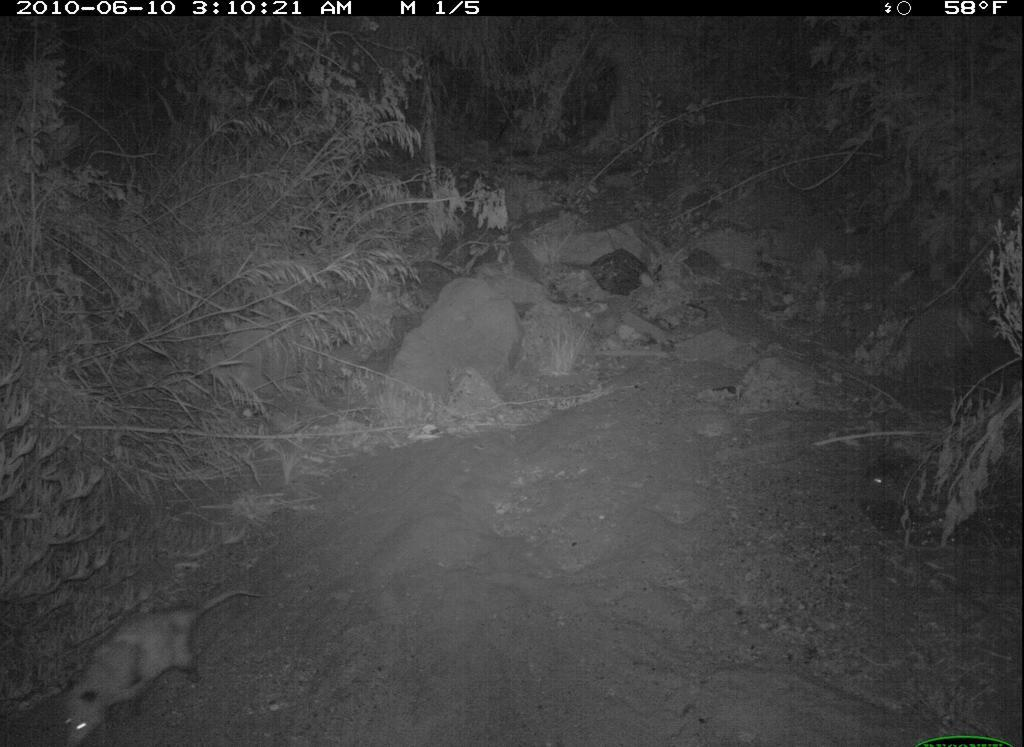opossum: (61, 579, 268, 745)
